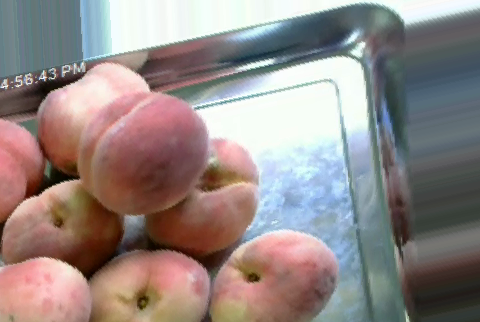Peach: (77, 88, 211, 217), (38, 56, 168, 179), (145, 136, 257, 255), (1, 178, 127, 274), (209, 229, 339, 321), (85, 246, 207, 321), (0, 257, 94, 322), (0, 111, 49, 224)
